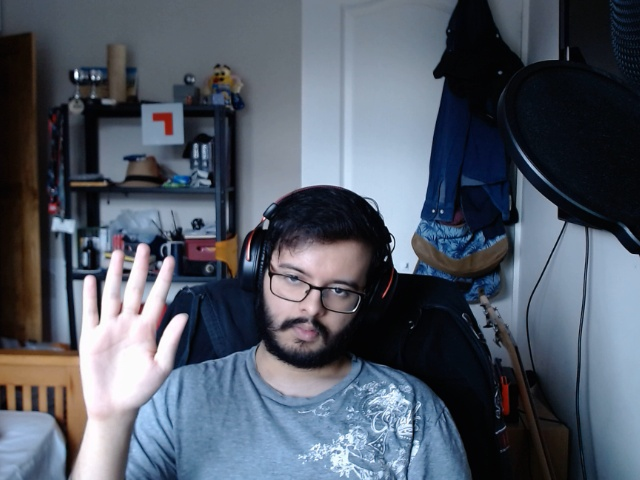Hello: (69, 235, 195, 426)
